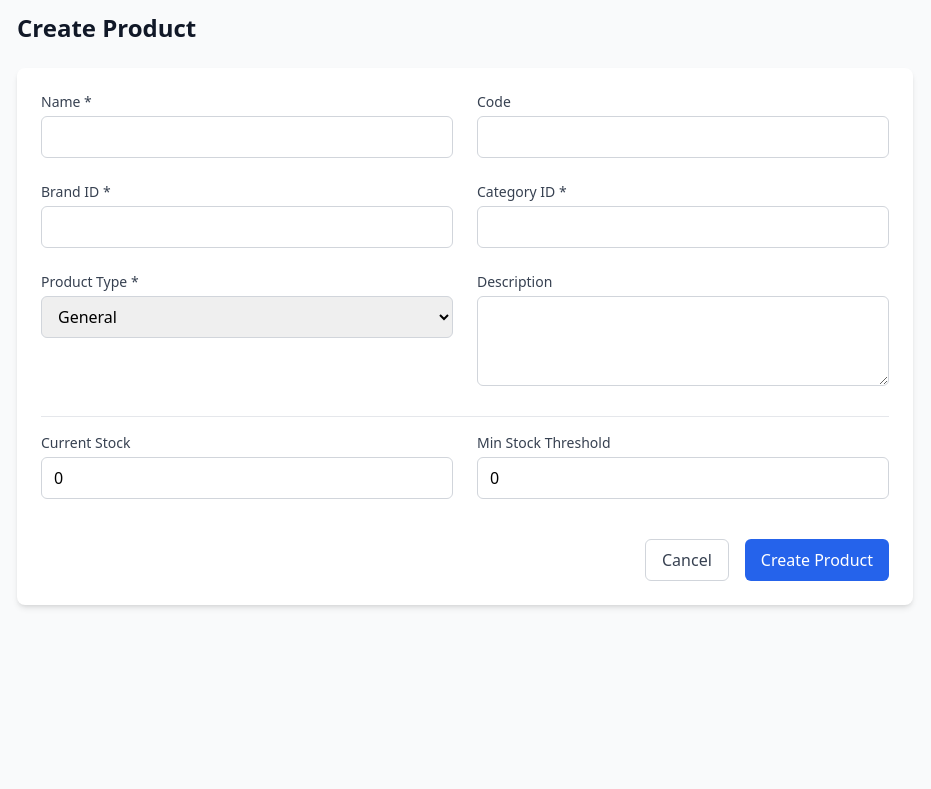
Scenario: ProductFormPage › shows CCA, voltage, and dimensions fields when product type is battery
This screenshot has width=931, height=789.
Select "Battery" in the dropdown labelled "Product Type *" at (247, 317), box [41,296,453,338]
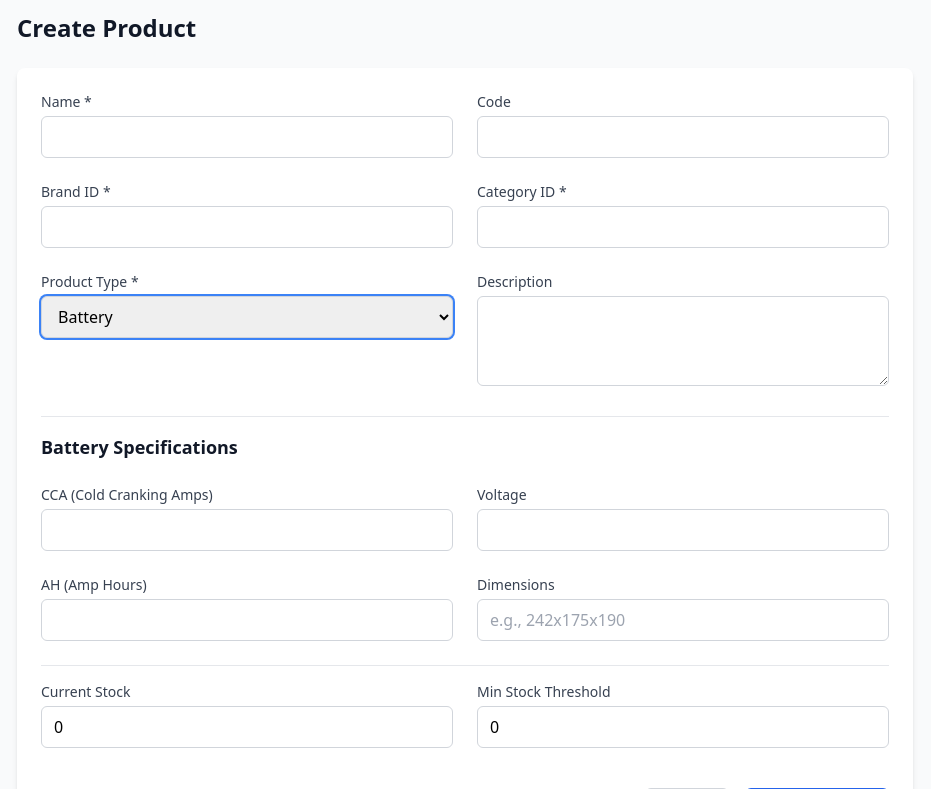
Expected: the number field labelled "CCA (Cold Cranking Amps)" is shown, [41,509,453,551]
Expected: the number field labelled "Voltage" is shown, [477,509,889,551]
Expected: the field labelled "Dimensions" is shown, [477,599,889,641]
